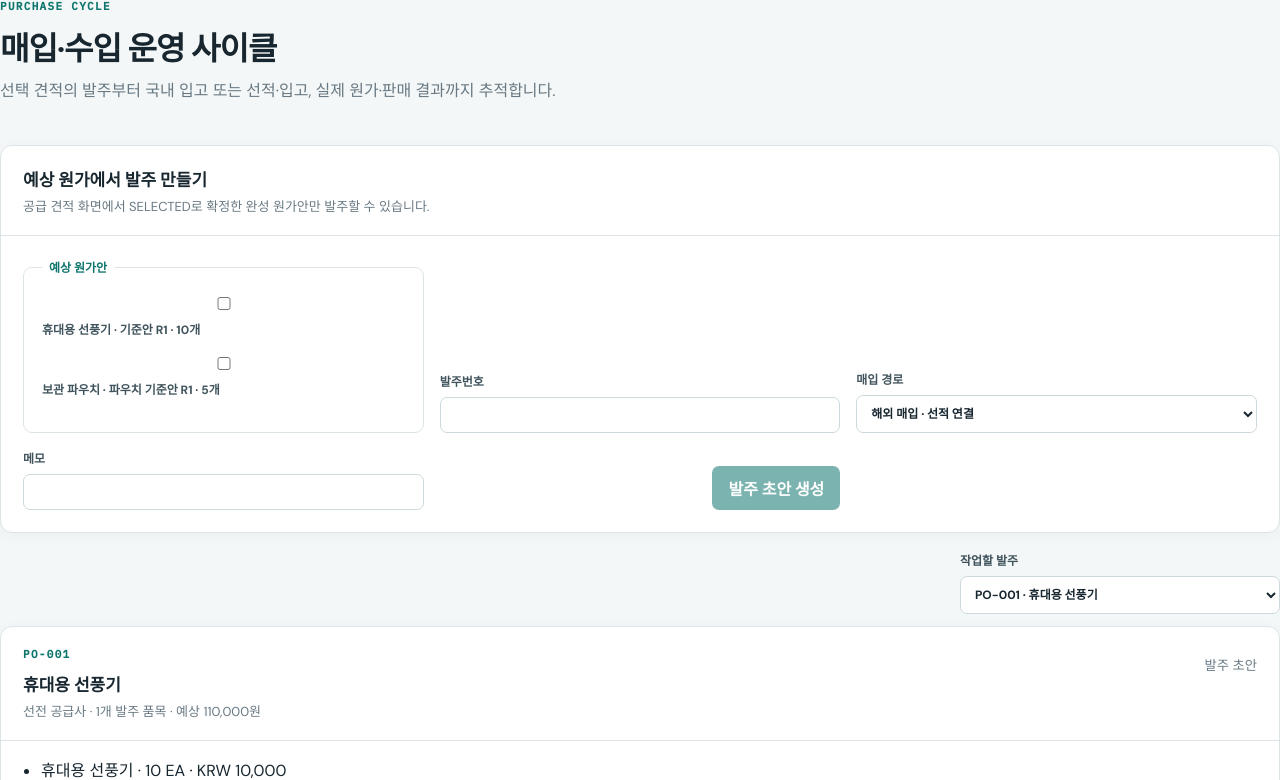
it: 같은 견적의 완성 원가안 여러 개로 발주를 만들고 초안을 승인한다
Expected: the text "PO-001" is shown, x1=23 y1=647 x2=70 y2=661
Click the checkbox labelled "휴대용 선풍기 · 기준안 R1 · 10개" at (224,304), box x1=46 y1=297 x2=402 y2=310
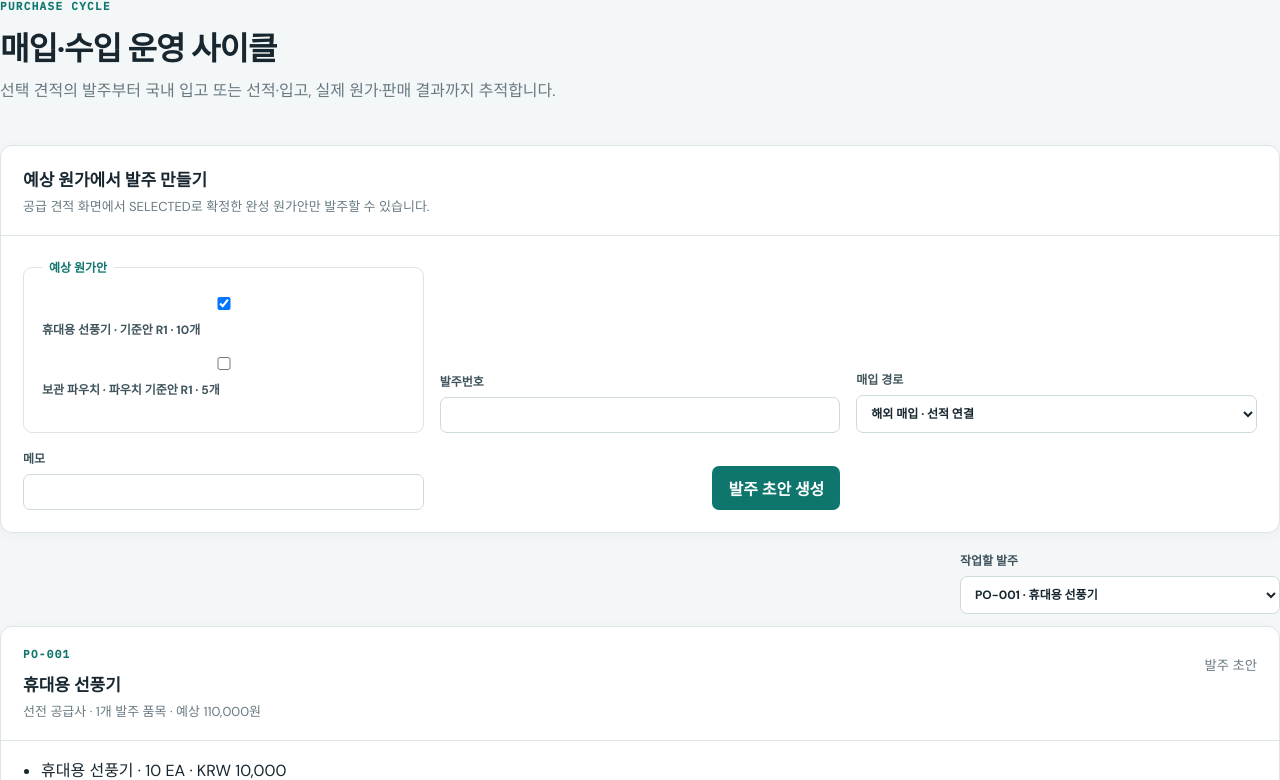
Click the checkbox labelled "보관 파우치 · 파우치 기준안 R1 · 5개" at (224,364), box x1=46 y1=357 x2=402 y2=370
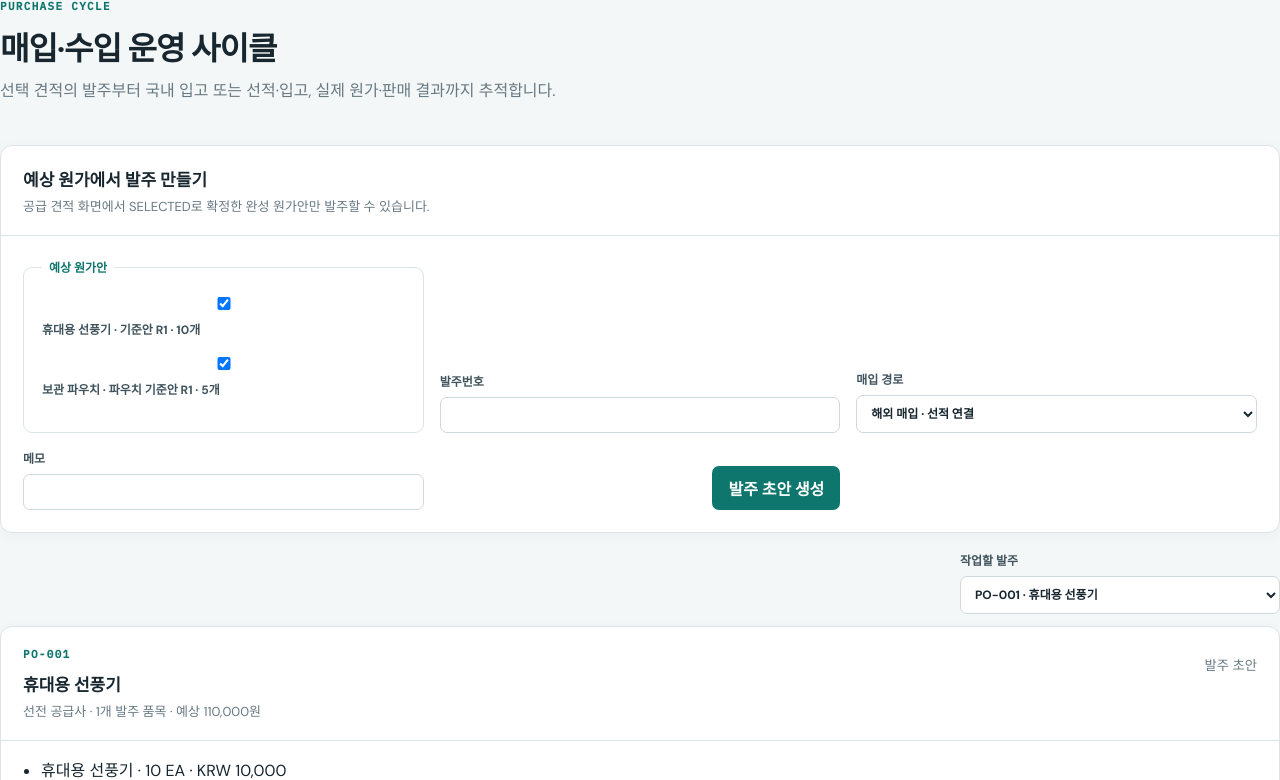
Type "PO-002" into the field labelled "발주번호" at (640,415), box x1=440 y1=397 x2=840 y2=433
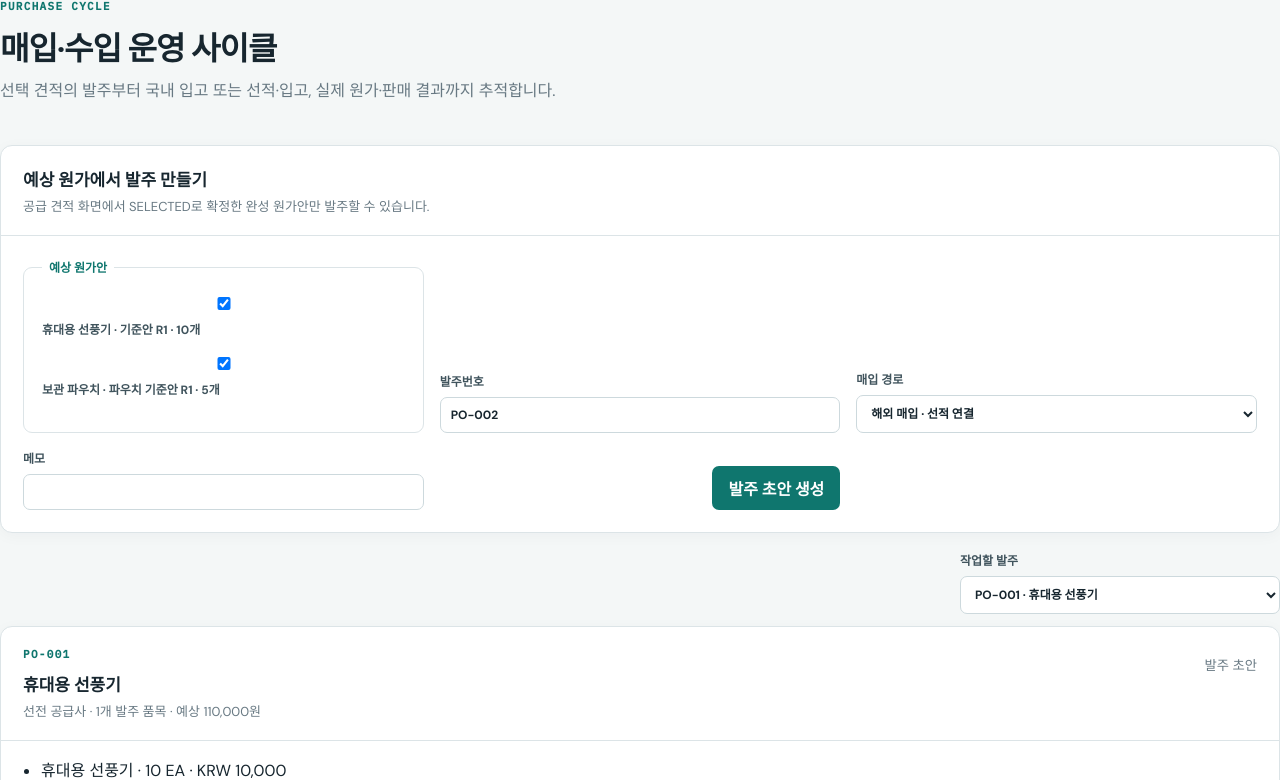
Click the button "발주 초안 생성" at (776,488), box x1=712 y1=466 x2=840 y2=510
(page scrolled)
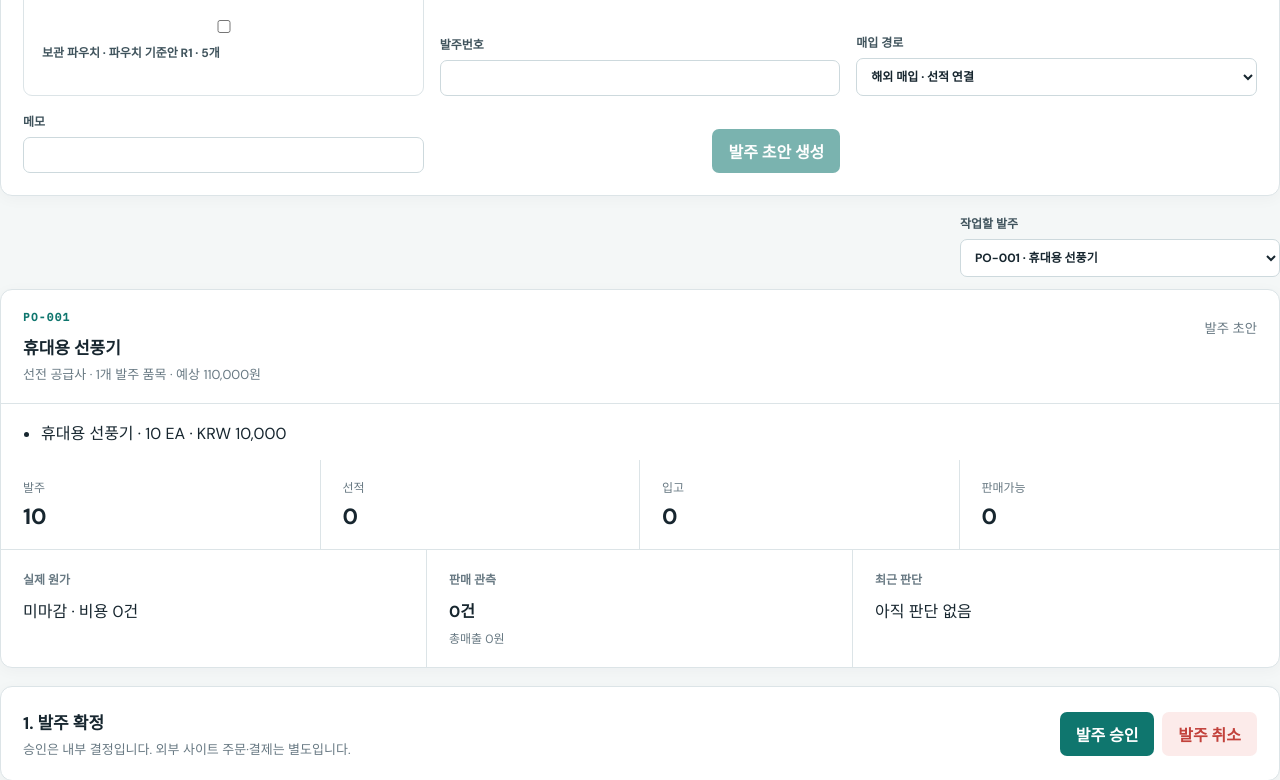
Click the button "발주 승인" at (1107,734), box x1=1060 y1=712 x2=1154 y2=756
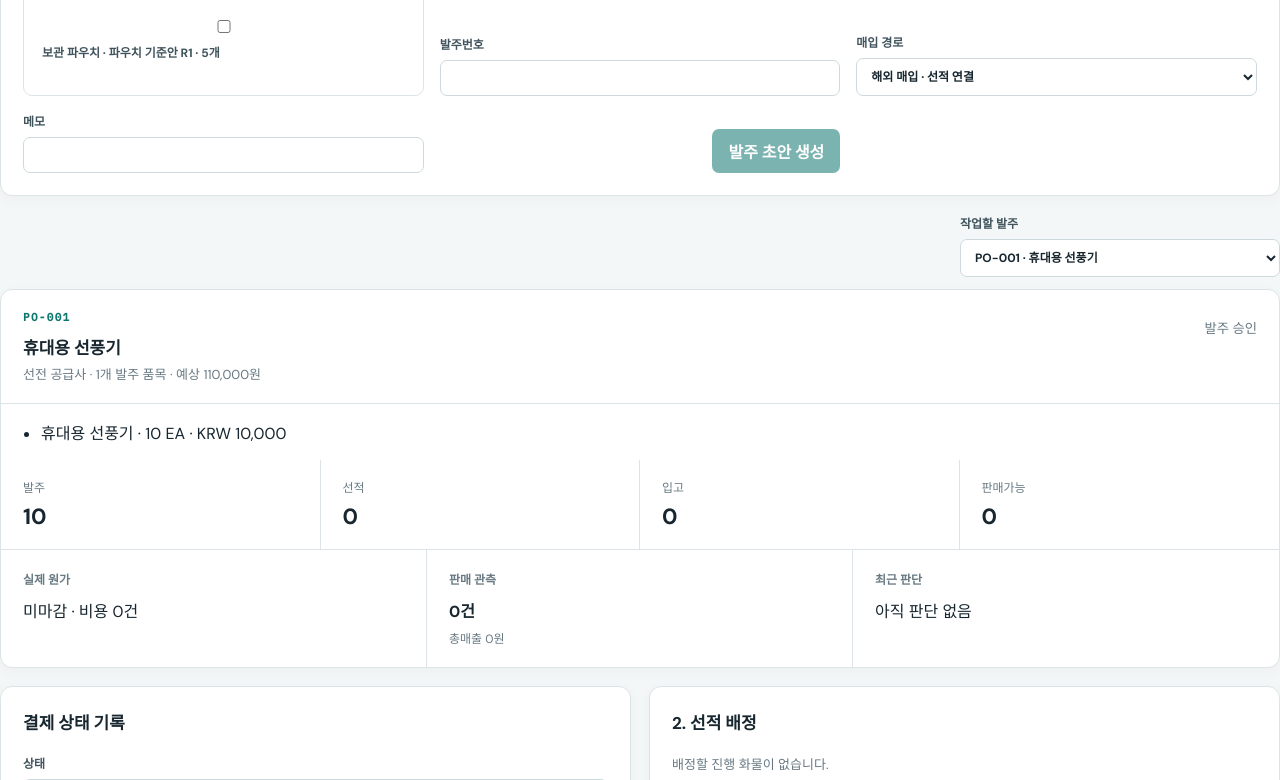
Expected: the heading "결제 상태 기록" is shown, x1=23 y1=712 x2=125 y2=734
